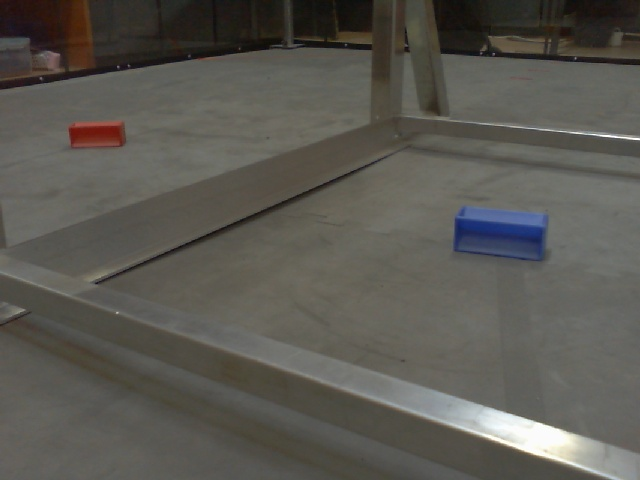BlueSample: (448, 200, 553, 263)
RedSample: (68, 118, 127, 148)
